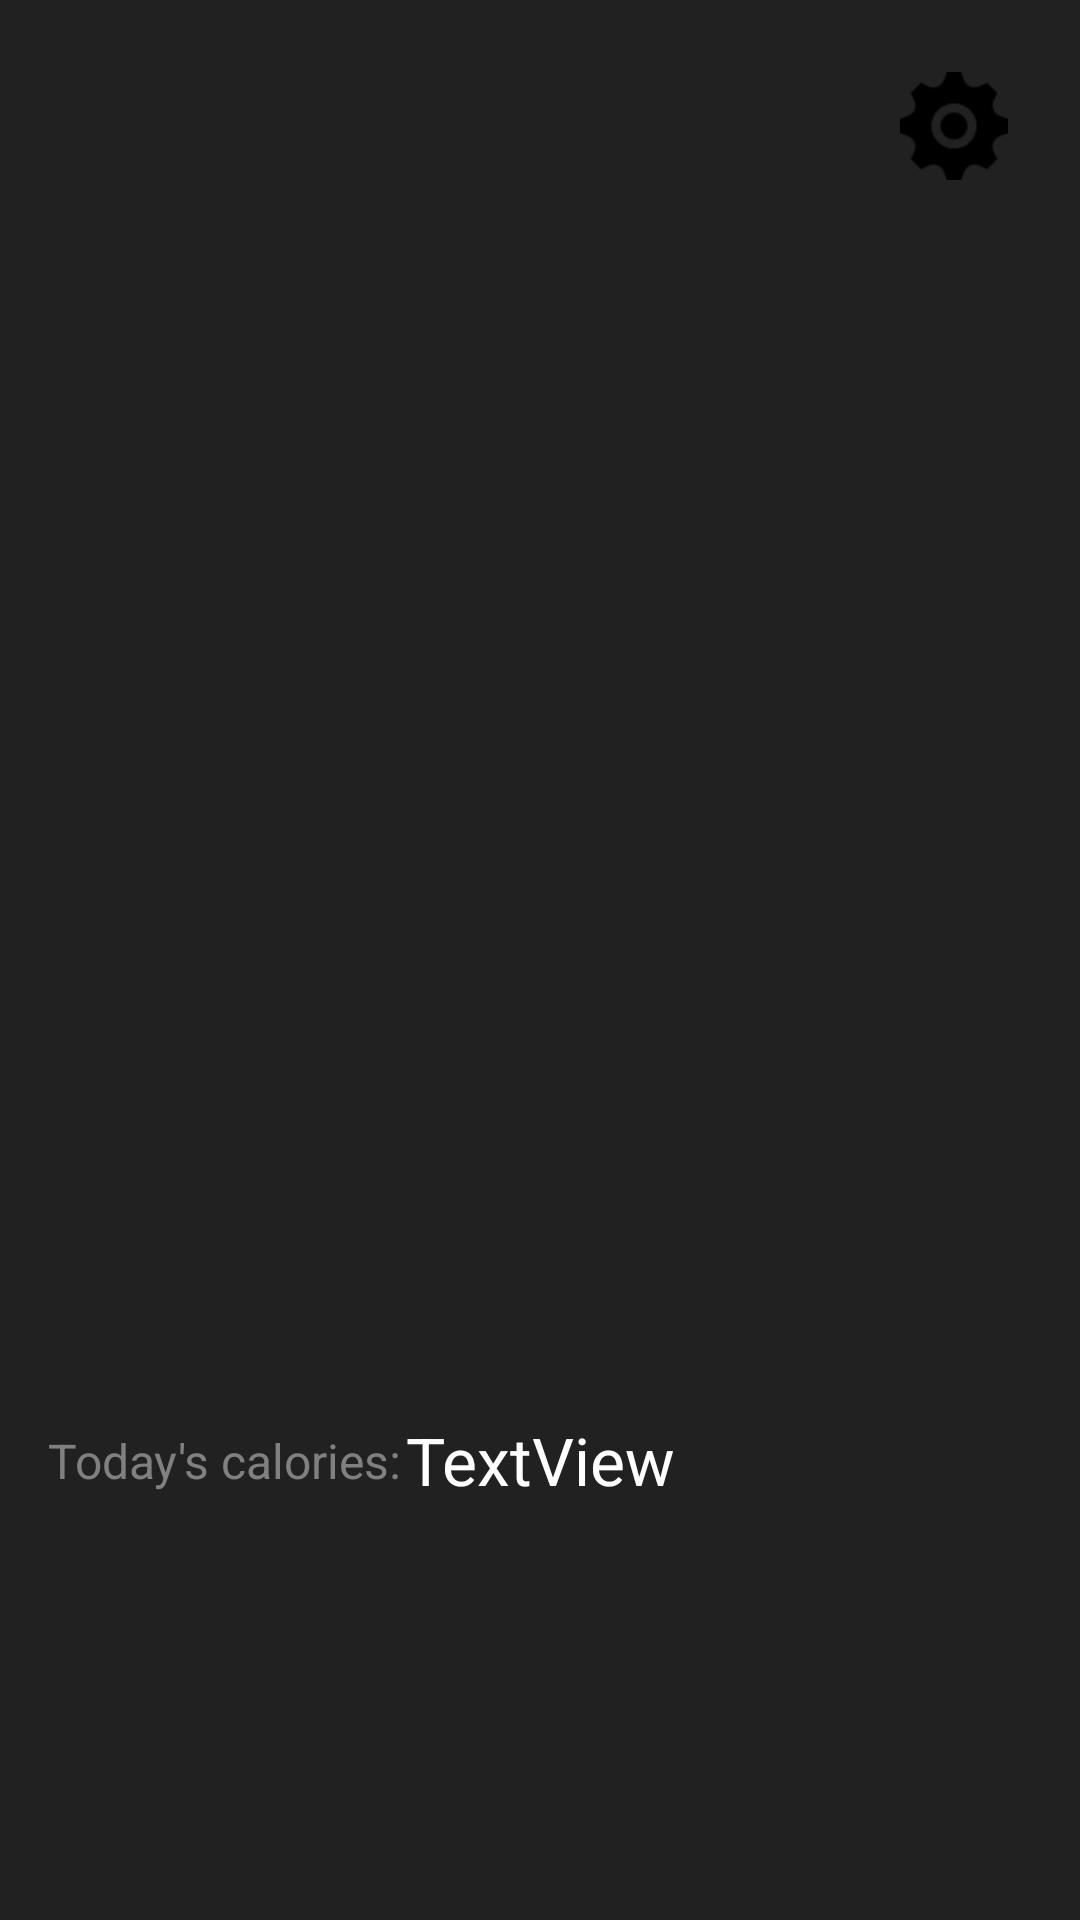

Screen size 1080px×1920px. Icon name, then its box in pixels as bbox=[x1, y1, x2, y2]:
settings: bbox=[900, 72, 1008, 180]
